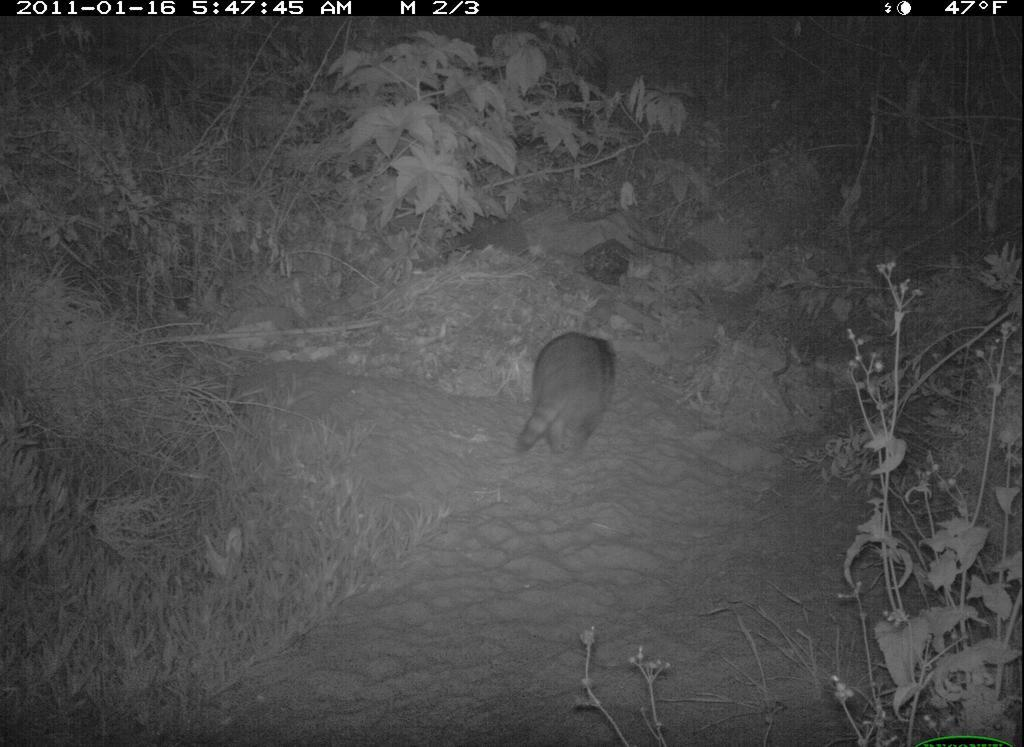raccoon: (507, 318, 630, 468)
